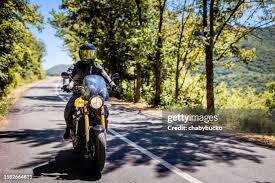motorcycle: (57, 71, 120, 168)
